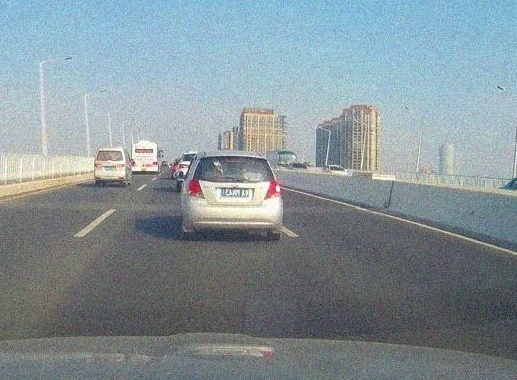L_light: (186, 178, 205, 199), (131, 161, 136, 165), (95, 164, 101, 167)
R_light: (264, 180, 280, 199), (117, 163, 125, 167), (153, 162, 158, 165)
T_light: (226, 156, 241, 160), (108, 151, 113, 153), (142, 144, 146, 146)
day-no: (94, 148, 125, 186), (131, 141, 158, 174)
day-right: (182, 150, 283, 239)
